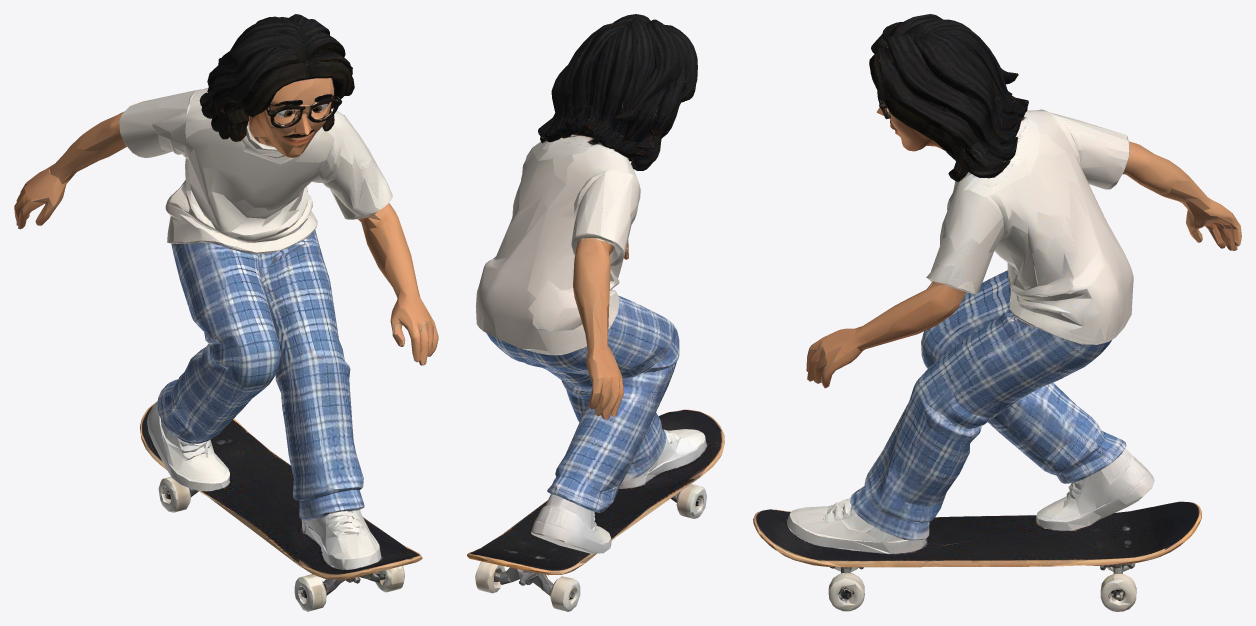
The model's file is skater.glb.
The picture shows the model from 3 angles, left to right: view 1: azimuth 30°, elevation 25°; view 2: azimuth 150°, elevation 25°; view 3: azimuth 270°, elevation 25°; orthographic projection. The views are drawn at different scales.
Size of the model in its own units: 0.8612 by 1.9 by 1.51.
1 material, 1 textured.
